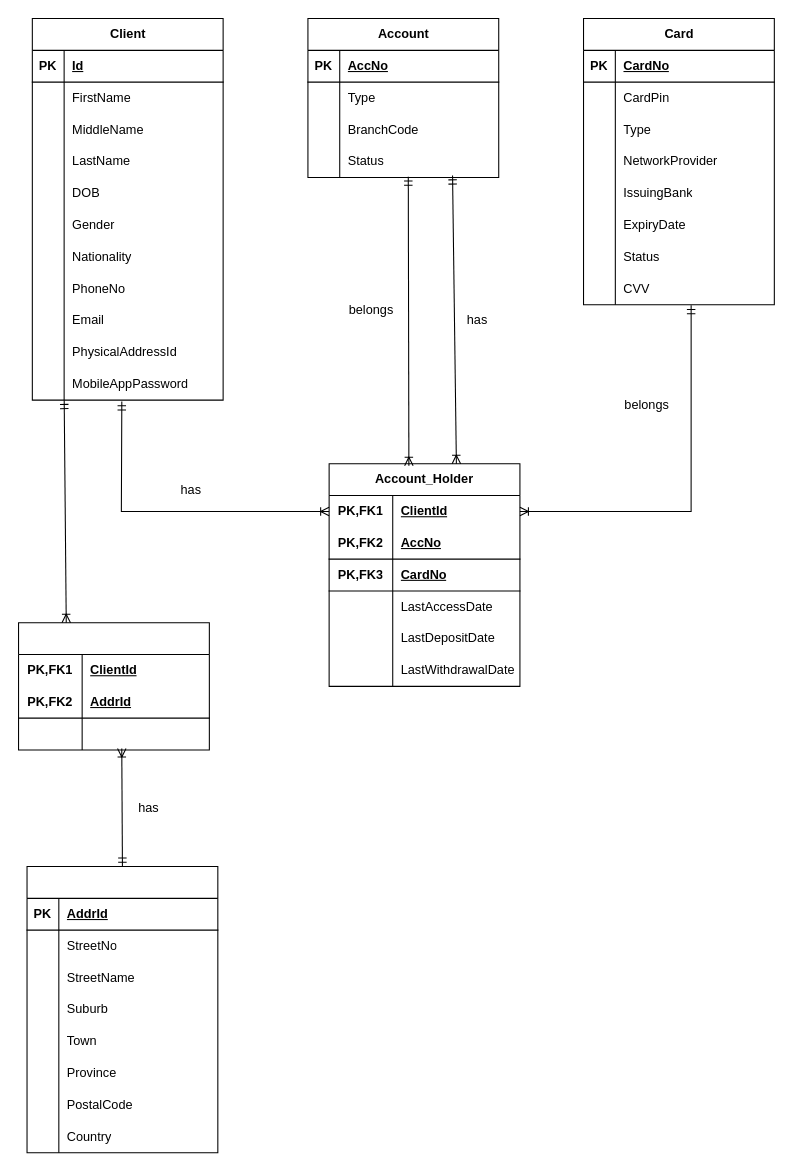
Image size: 793x1171. Some labels were removed from this diagram. Here are the shapes that lost their labels. From the top down, the box of each, then its label:
(17, 622, 209, 750): Client_Address
(26, 865, 218, 1153): Physical_Address
